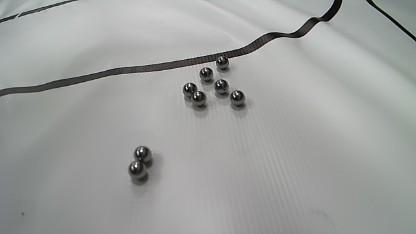ironball: (128, 160, 147, 180), (134, 145, 152, 164), (229, 90, 245, 106), (213, 79, 229, 94), (182, 82, 197, 97), (191, 91, 206, 106), (199, 67, 213, 81), (216, 56, 229, 69)
